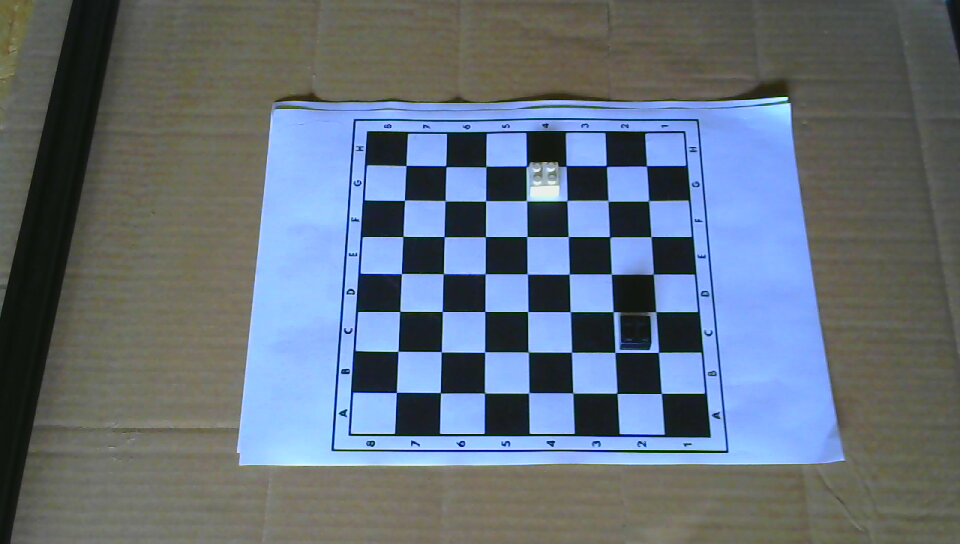bp: (618, 311, 653, 350)
wp: (527, 158, 561, 198)
